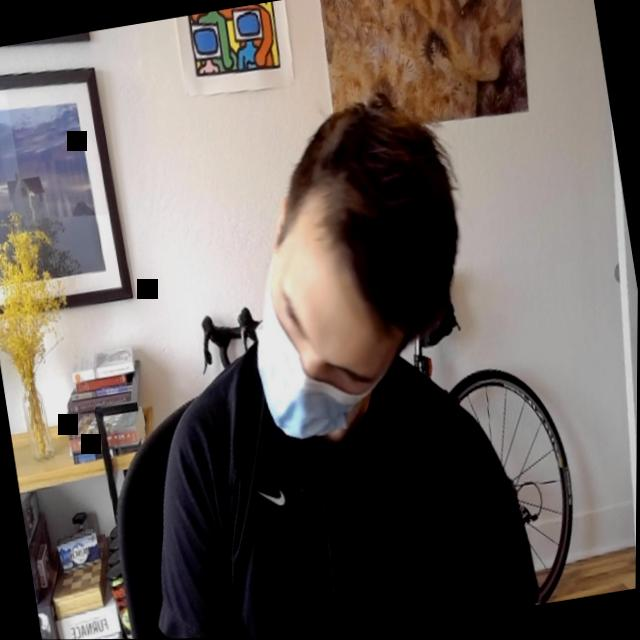Mask: (233, 195, 417, 446)
